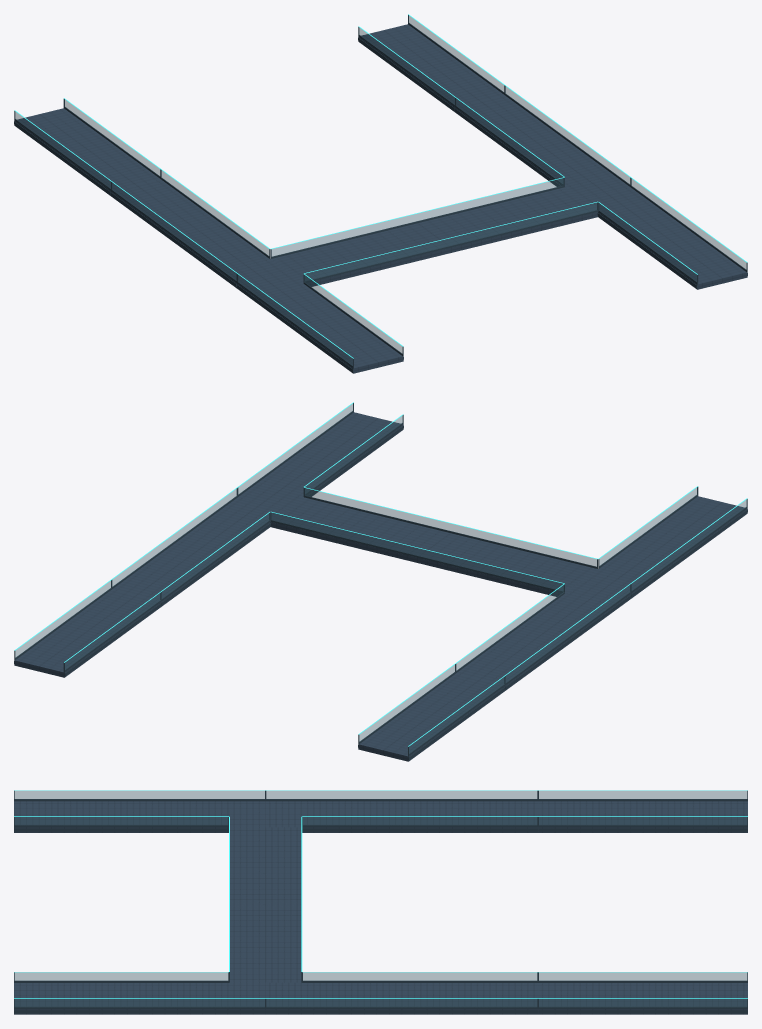
The model's file is v02-detailed-01-04-coffered.glb.
3 renders of one model, top to bottom at view 1: azimuth 30°, elevation 25°; view 2: azimuth 150°, elevation 25°; view 3: azimuth 270°, elevation 25°, orthographic. The views are drawn at different scales.
Visible parts, largest first — view 1: v02-detailed-01-04-coffered; view 2: v02-detailed-01-04-coffered; view 3: v02-detailed-01-04-coffered.
Part boxes in pixels (x1,y1,x2,y2): v02-detailed-01-04-coffered: [14, 14, 747, 373]; v02-detailed-01-04-coffered: [14, 402, 747, 761]; v02-detailed-01-04-coffered: [14, 790, 747, 1014].
Size of the model in its own units: 47.1 by 1.77 by 70.
Materials: 5 (1 with a texture image).
